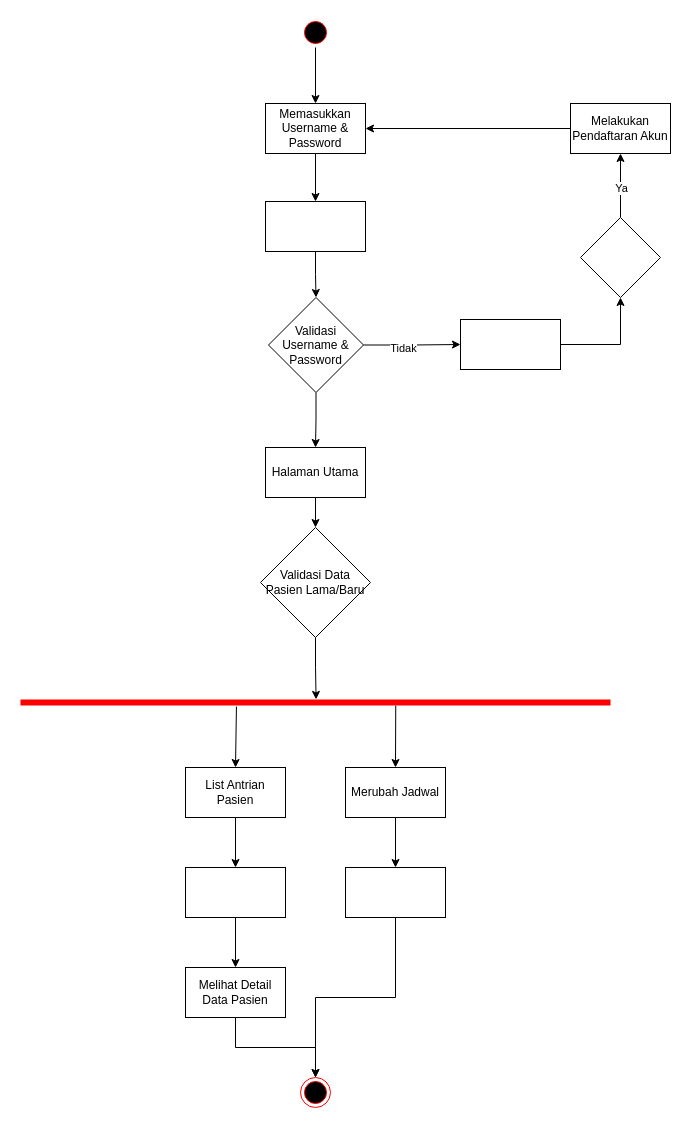
The diagram is 688 pixels wide and 1125 high, and some of its shapes have lost their labels. Each missing label, with the centre of its shape:
"Informasi Antrian" goes at [235,892].
"Login" goes at [315,226].
"Login Gagal" goes at [510,344].
"Simpan" goes at [395,892].
